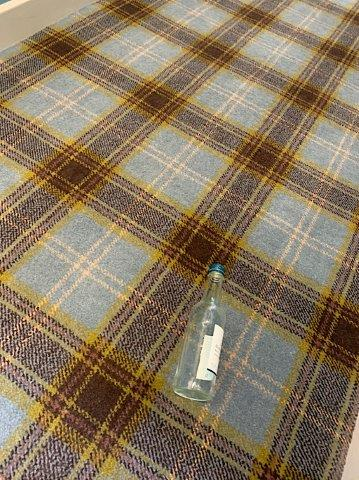botolkaca: (174, 264, 226, 400)
